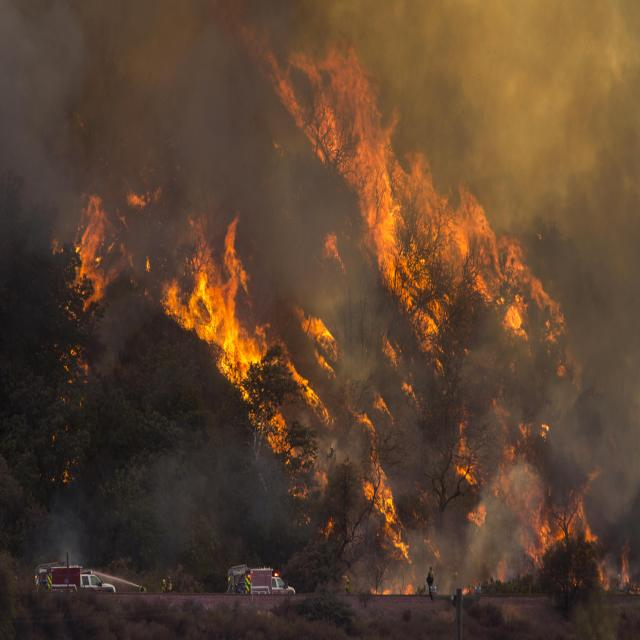Fire: (322, 53, 554, 359), (160, 223, 295, 438), (501, 470, 607, 555), (353, 454, 416, 574), (56, 197, 116, 313), (294, 293, 348, 414)
Smoke: (7, 0, 631, 265), (275, 240, 640, 536)
